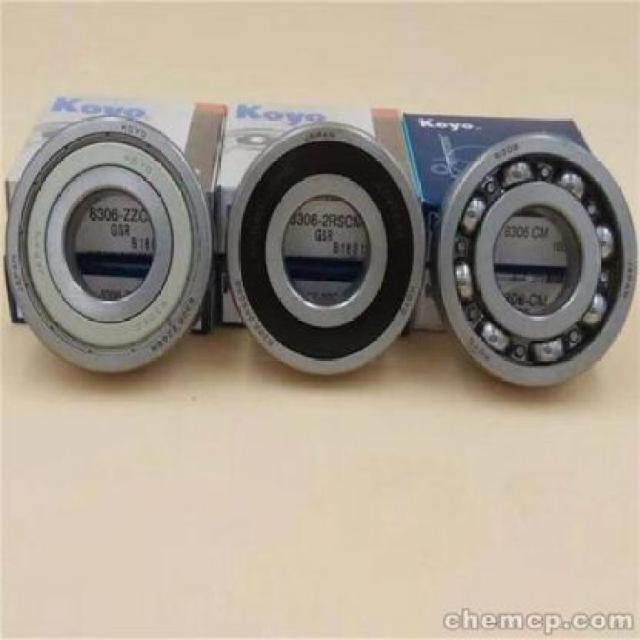Bearing: (3, 114, 218, 377), (225, 120, 433, 378), (437, 129, 640, 391)
